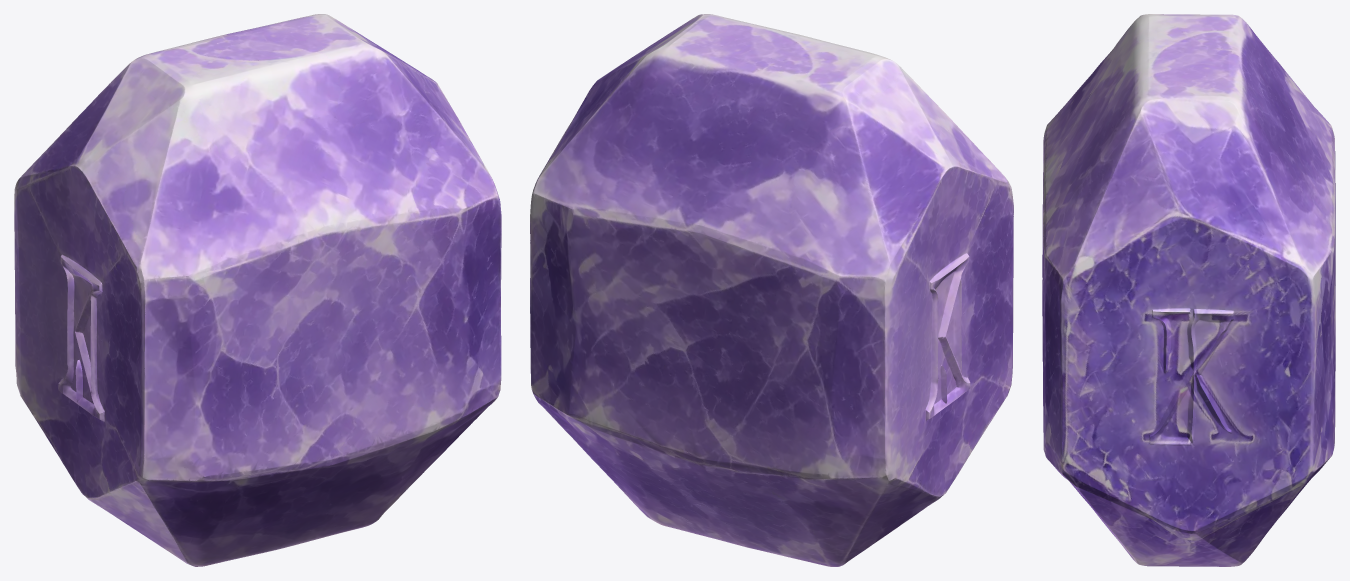
3 renders of one model, left to right at view 1: azimuth 30°, elevation 25°; view 2: azimuth 150°, elevation 25°; view 3: azimuth 270°, elevation 25°, orthographic. The views are drawn at different scales.
Visible parts, largest first — view 1: model; view 2: model; view 3: model.
Part boxes in pixels (x1,y1,x2,y2): model: [14, 14, 501, 566]; model: [530, 14, 1013, 566]; model: [1042, 14, 1335, 566].
Bounding box in the file's own units: 1.51 × 1.93 × 1.08.
Materials: 1 (1 with a texture image).
